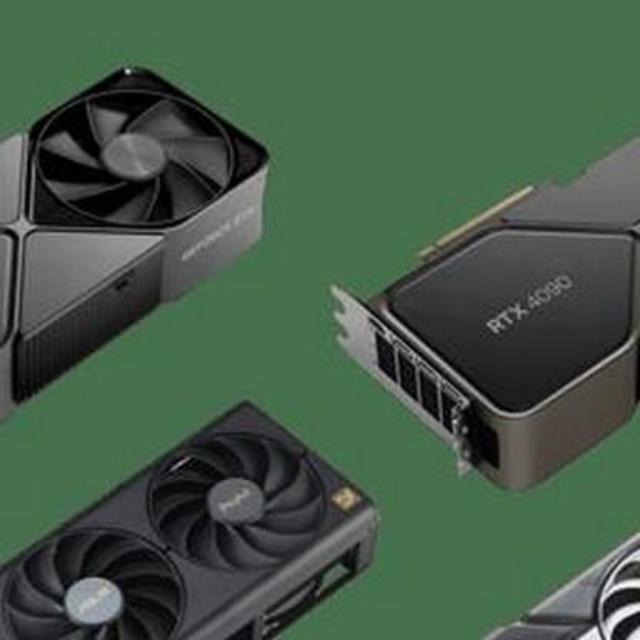GPU: (329, 126, 640, 488), (0, 55, 275, 407), (0, 400, 380, 640)
